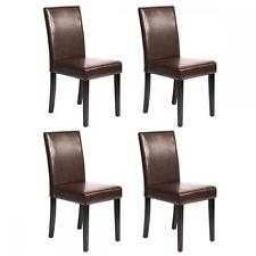Chair: (136, 132, 217, 252), (43, 132, 122, 252), (137, 8, 217, 126), (43, 7, 123, 124)
